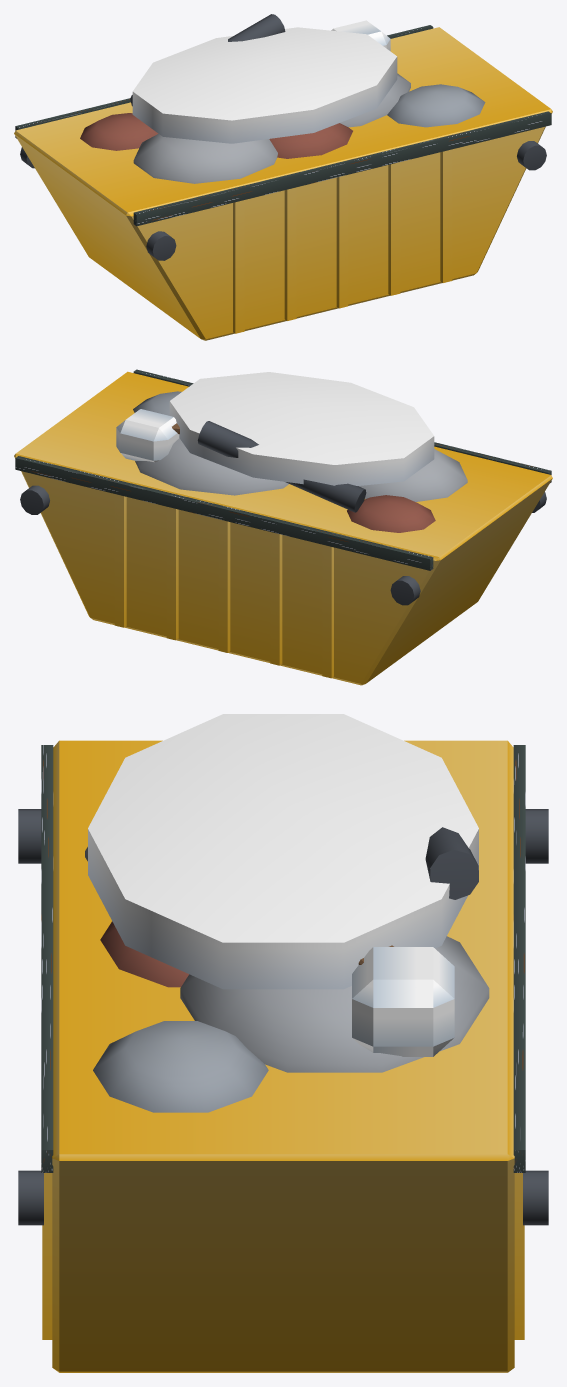
The model's file is ck_skip.fbx.
3 views of the same model, one above another, from view 1: azimuth 30°, elevation 25°; view 2: azimuth 150°, elevation 25°; view 3: azimuth 270°, elevation 25° (orthographic). The views are drawn at different scales.
Visible parts, largest first — view 1: ck_skip; view 2: ck_skip; view 3: ck_skip.
Part boxes in pixels (left/top/right/bottom): ck_skip: left=14, top=14, right=552, bottom=340; ck_skip: left=14, top=369, right=552, bottom=685; ck_skip: left=18, top=714, right=548, bottom=1372.
Size of the model in its own units: 980 by 467 by 527.
